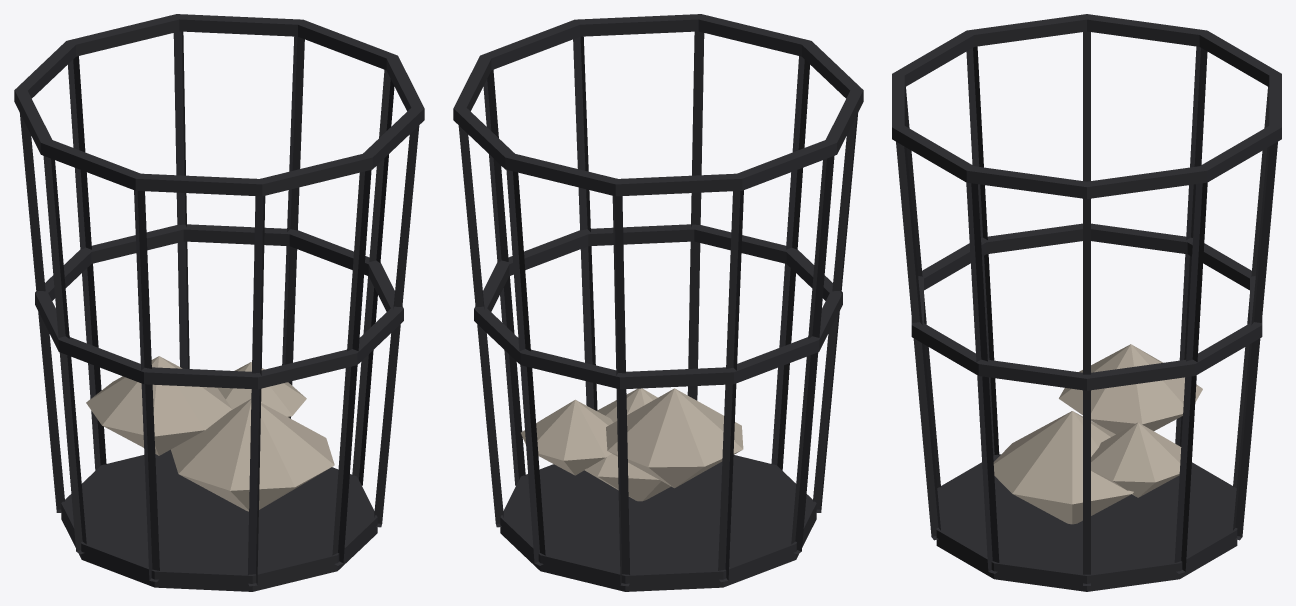
Rendered from FN_Bin_Wire.glb.
3 views of the same model, side by side, from view 1: azimuth 30°, elevation 25°; view 2: azimuth 150°, elevation 25°; view 3: azimuth 270°, elevation 25° (orthographic).
Parts seen in each view (by area): view 1: FN_Bin_Wire; view 2: FN_Bin_Wire; view 3: FN_Bin_Wire.
Boxes of the visible parts, left/top/right/bottom form: FN_Bin_Wire: left=14, top=14, right=424, bottom=591; FN_Bin_Wire: left=453, top=14, right=863, bottom=591; FN_Bin_Wire: left=892, top=14, right=1281, bottom=591.
Bounding box in the file's own units: 0.28 × 0.32 × 0.2663.
1 material, 1 textured.
